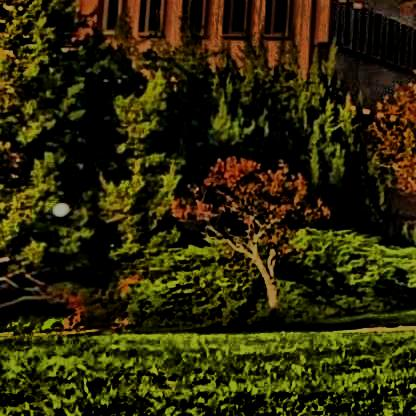golfball: (50, 199, 69, 214)
